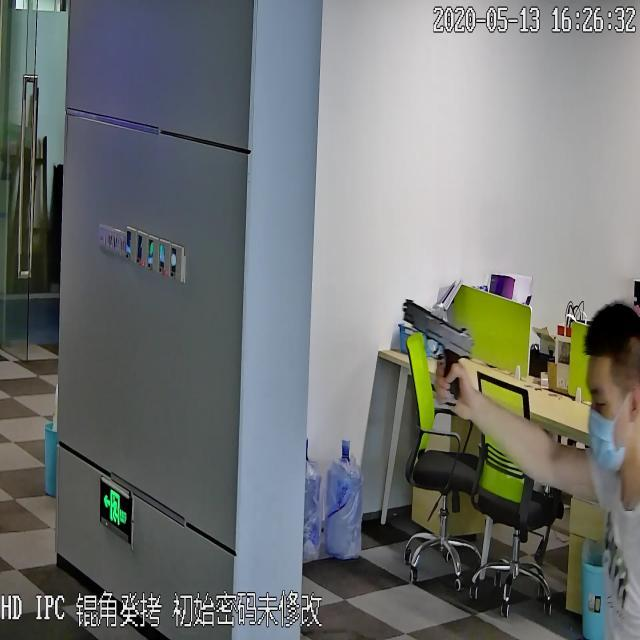gun: (401, 295, 476, 413)
